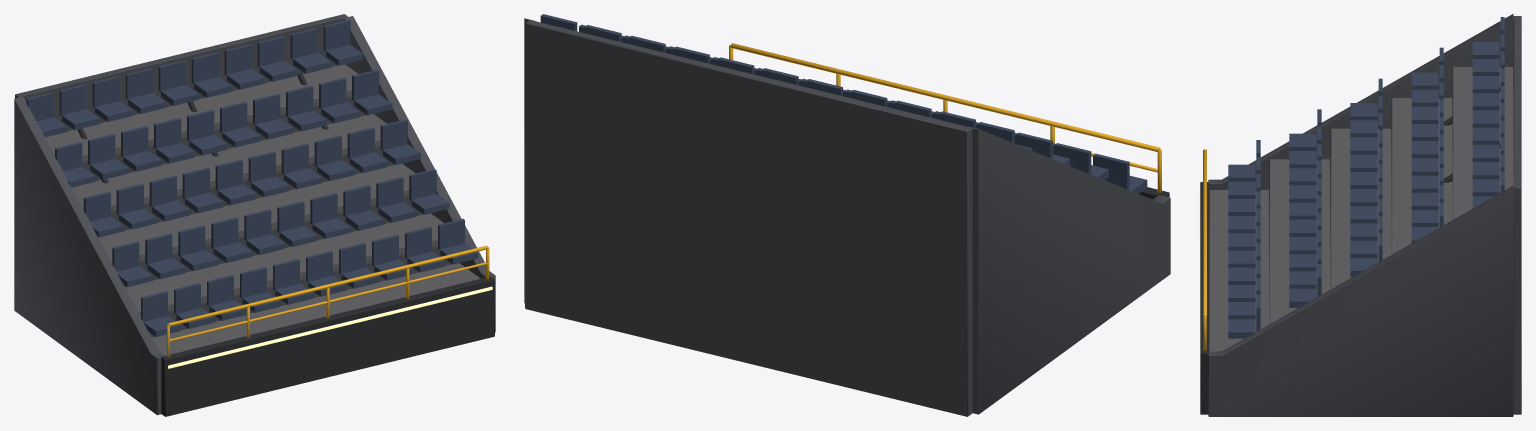
File: Stand_Segment.glb
3 views of the same model, side by side, from view 1: azimuth 30°, elevation 25°; view 2: azimuth 150°, elevation 25°; view 3: azimuth 270°, elevation 25° (orthographic). The views are drawn at different scales.
Parts seen in each view (by area): view 1: Stand_Segment; view 2: Stand_Segment; view 3: Stand_Segment.
Part boxes in pixels (x1,y1,x2,y2): Stand_Segment: [14, 14, 495, 416]; Stand_Segment: [524, 14, 1170, 416]; Stand_Segment: [1199, 14, 1521, 416].
Bounding box in the file's own units: 6.16 × 3.74 × 4.75.
